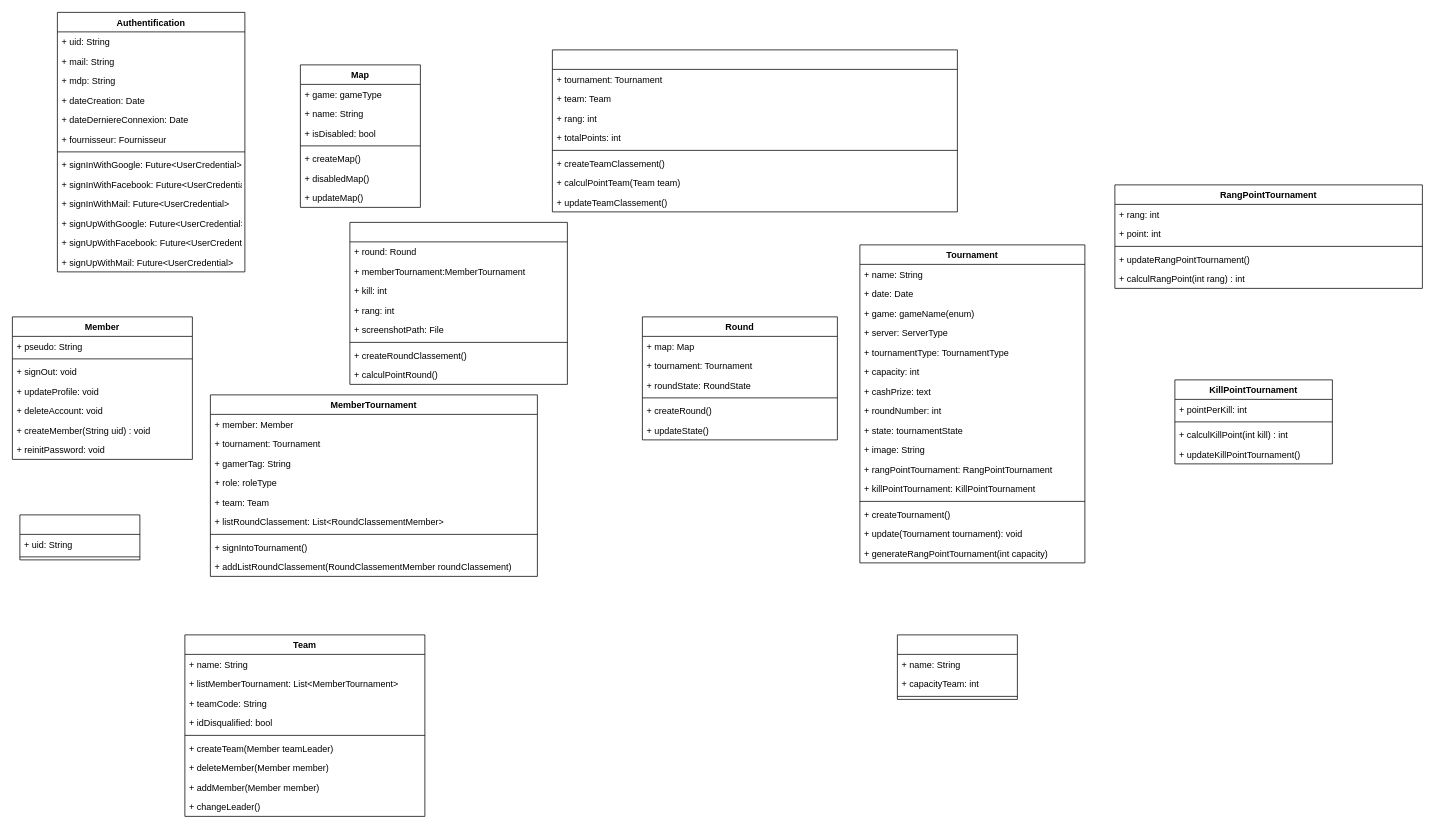
This 1435x829 diagram has some shape labels left out. Here are the shapes that lost their labels. From the top down, the box of each, then its label:
(552, 49, 957, 212): TeamClassementTournament
(349, 222, 567, 384): RoundClassementMember
(19, 514, 140, 560): Admin
(897, 634, 1017, 699): TournamentType
